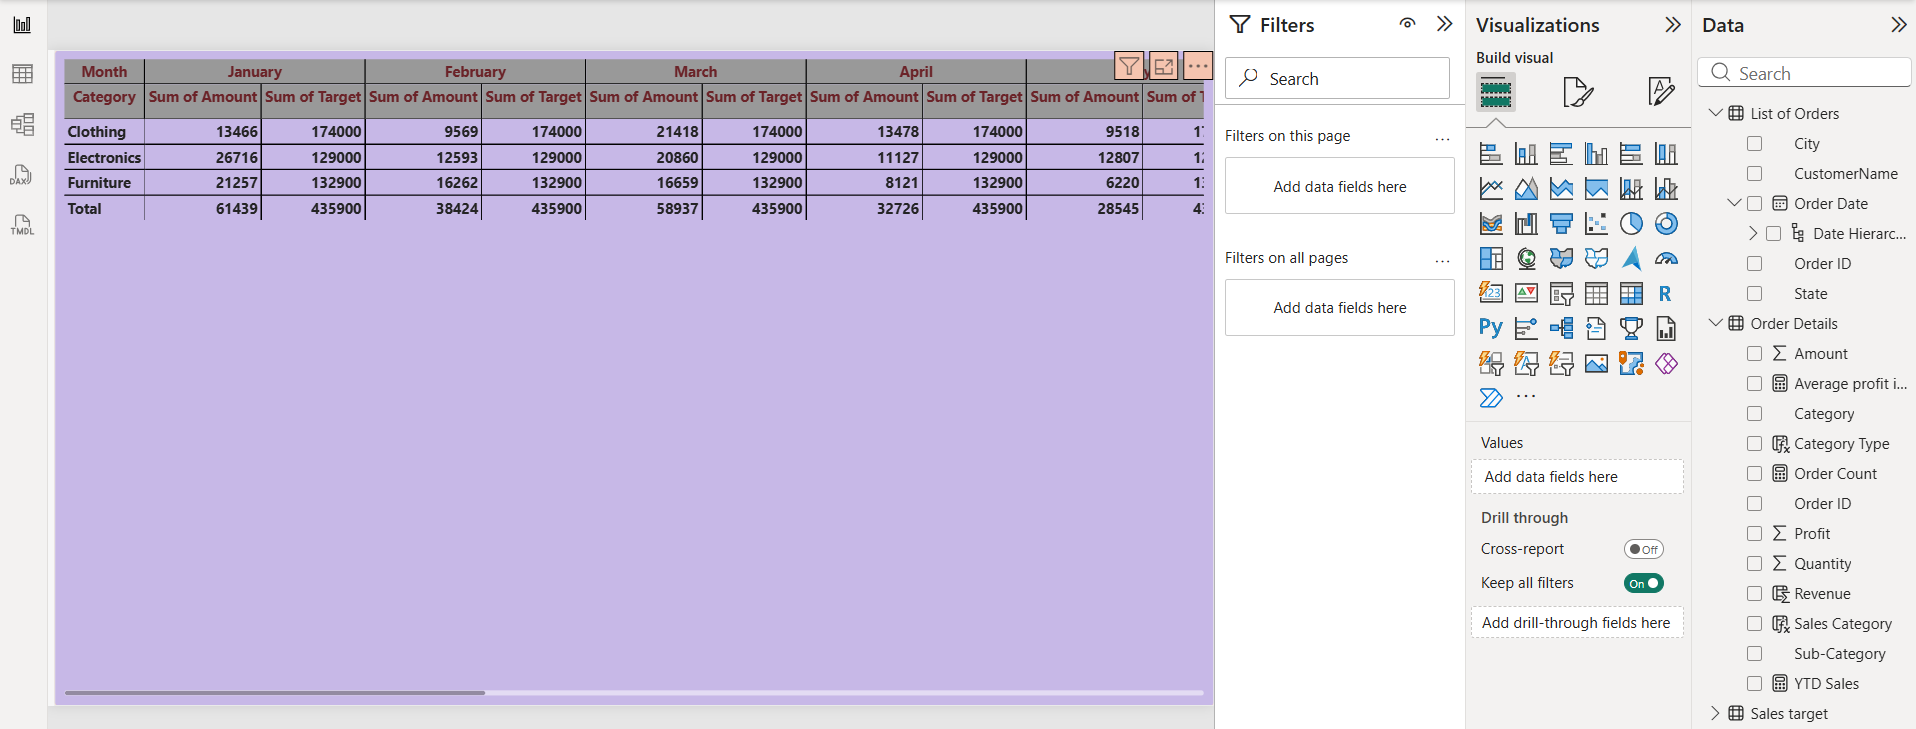

The dashboard page shown, as its layout file describes it:
{"tool":"powerbi","page":{"name":"MATRIX VISUAL","canvas":[1920,1080],"ordinal":2},"visuals":[{"type":"pivotTable","fields":{"Columns":["List of Orders .Order Date.Variation.Date Hierarchy.Month"],"Rows":["Order Details .Category"],"Values":["Sum(Order Details .Amount)","Sum(Sales target .Target)"]},"box":[0,0,1910.1,1080.6],"z":0}]}

Visuals, with their boxes on the page's 1920x1080 design canvas (x1, y1, x2, y2). These are canvas units, not pixel positions in the 1916x729 screenshot, which may show the page scaled, cropped or inside an application window:
pivotTable - List of Orders .Order Date.Variation.Date Hierarchy.Month x Order Details .Category: left=0, top=0, right=1910, bottom=1081
